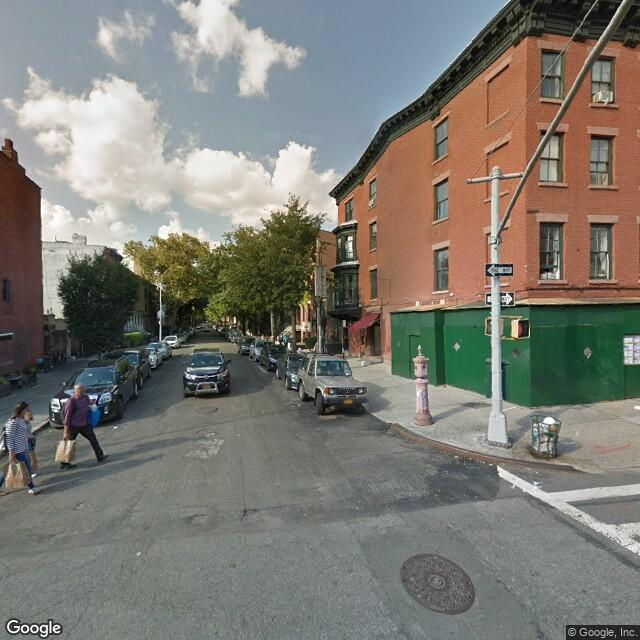litter: (480, 460, 498, 466), (452, 452, 463, 461), (527, 466, 539, 474), (135, 548, 143, 556), (295, 401, 303, 408), (112, 423, 120, 429)
